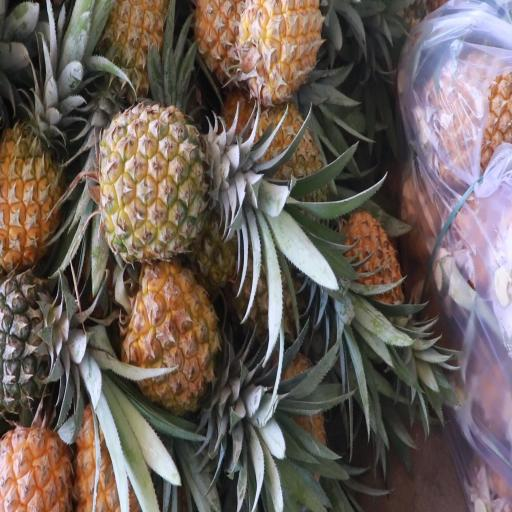Pineapple - v8 v1: (96, 112, 260, 262), (123, 261, 228, 444), (0, 89, 86, 271), (238, 0, 351, 105), (71, 348, 143, 512)
